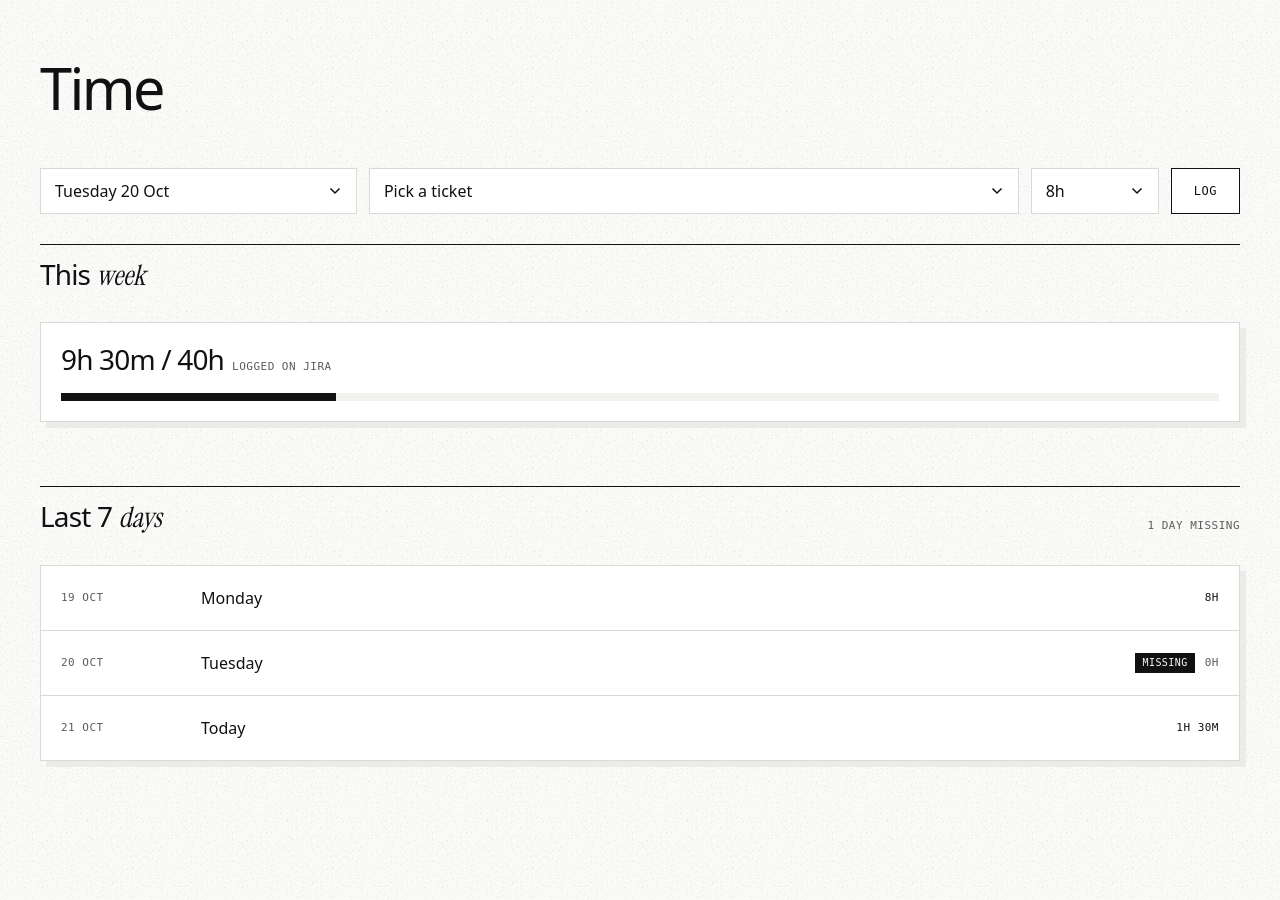
Test: closes on Cancel with no log
Expected: the dropdown named "Day" is shown, [40, 168, 357, 214]
Select "WEB-12 · Show the order history" in the dropdown named "Ticket". click: (694, 191)
box: [369, 168, 1019, 214]
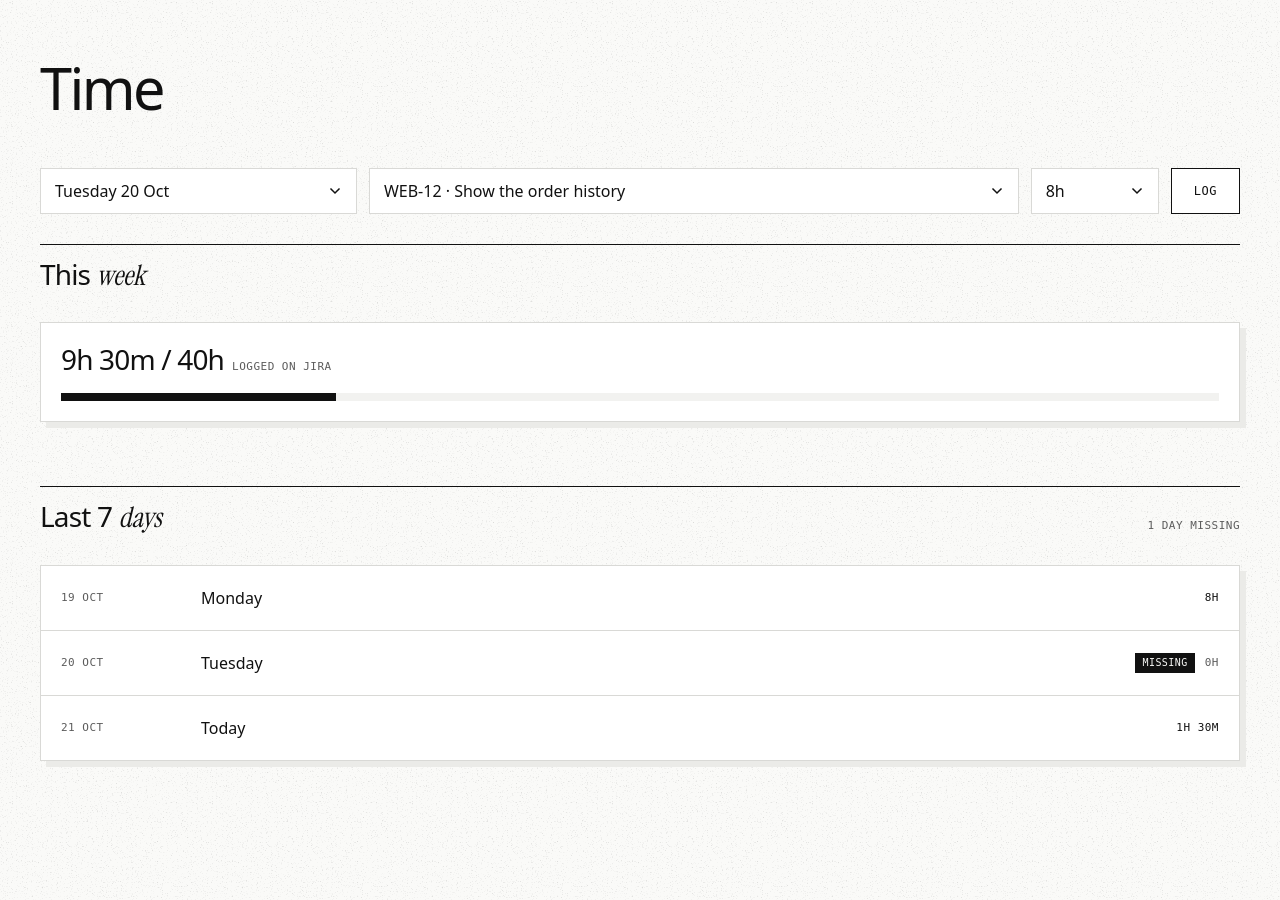
Click the button "Log". click: click(1205, 191)
box: [1171, 168, 1240, 214]
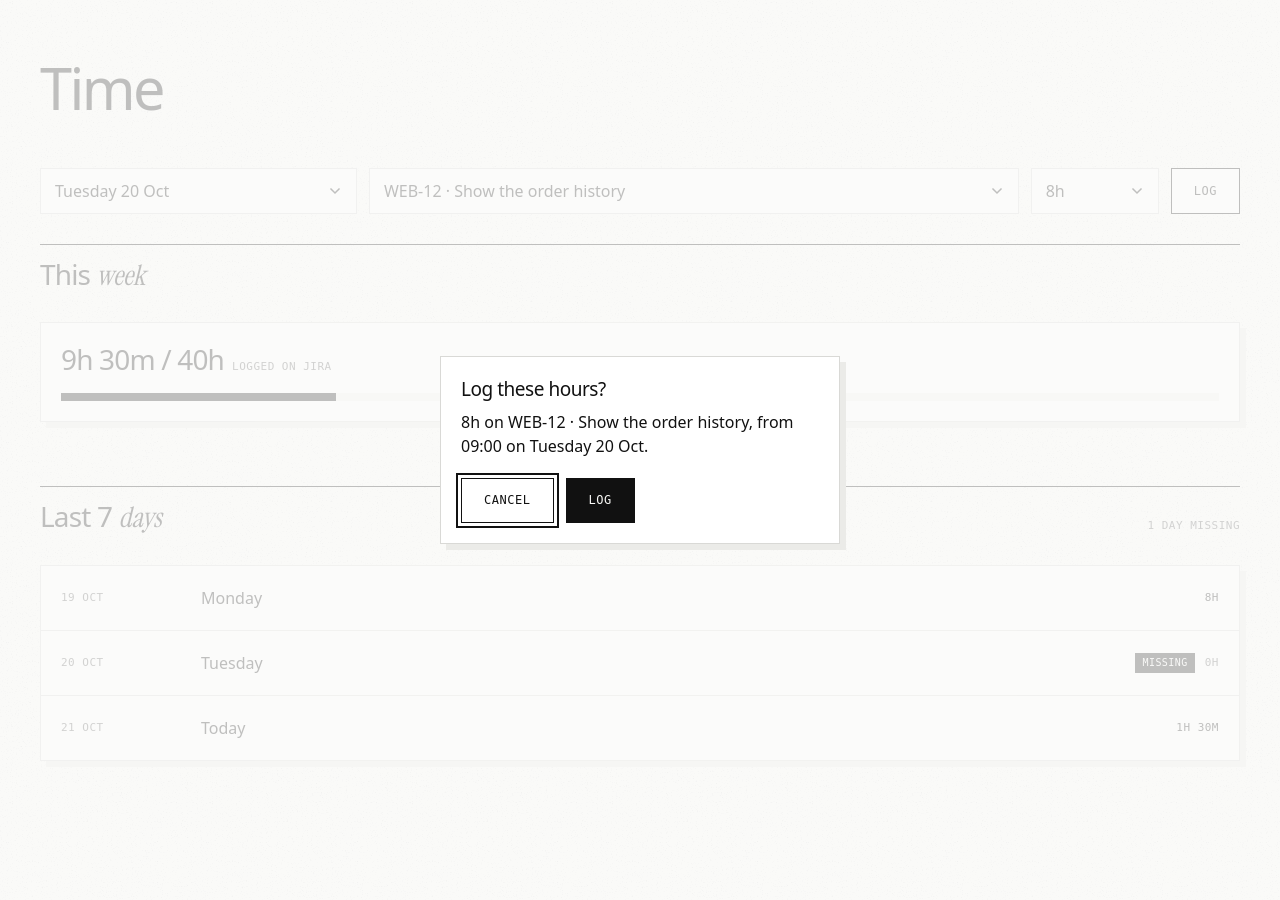
Click the button "Cancel". click: click(507, 500)
box: [461, 478, 554, 522]
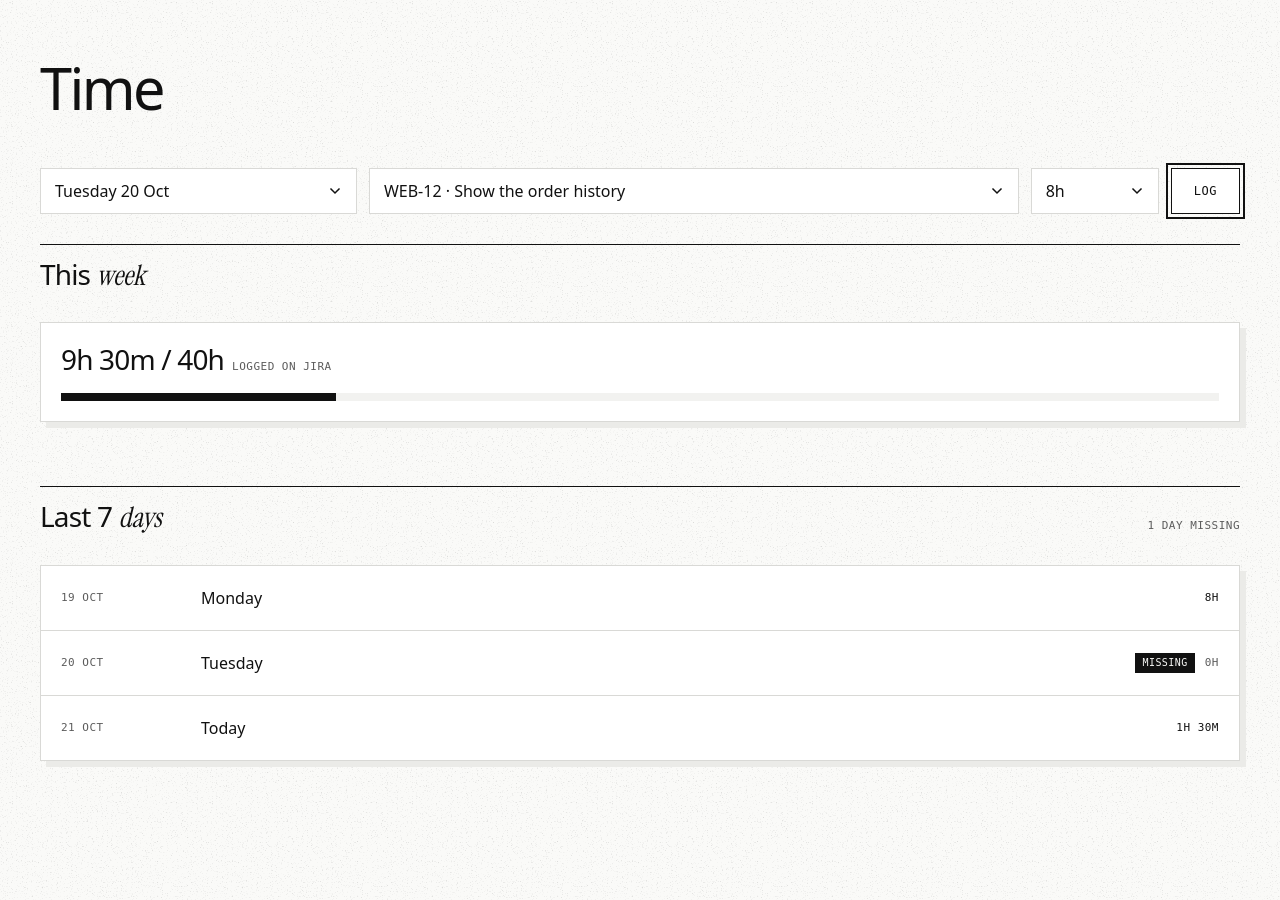
Result: the dialog is gone
